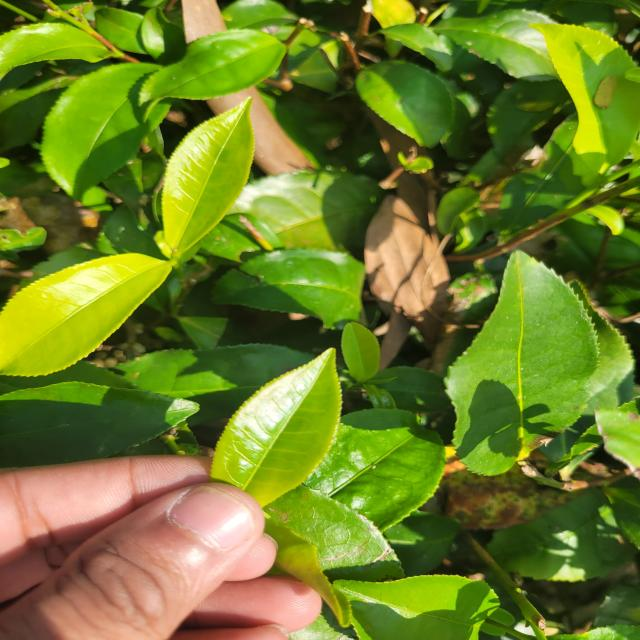Catagory A(1-2 days): (194, 328, 363, 536)
